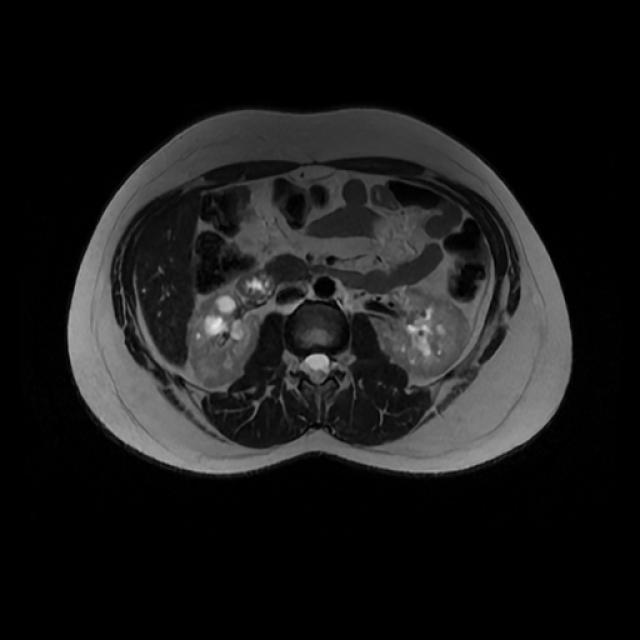sag: (186, 291, 263, 388)
sol: (372, 285, 469, 376)
